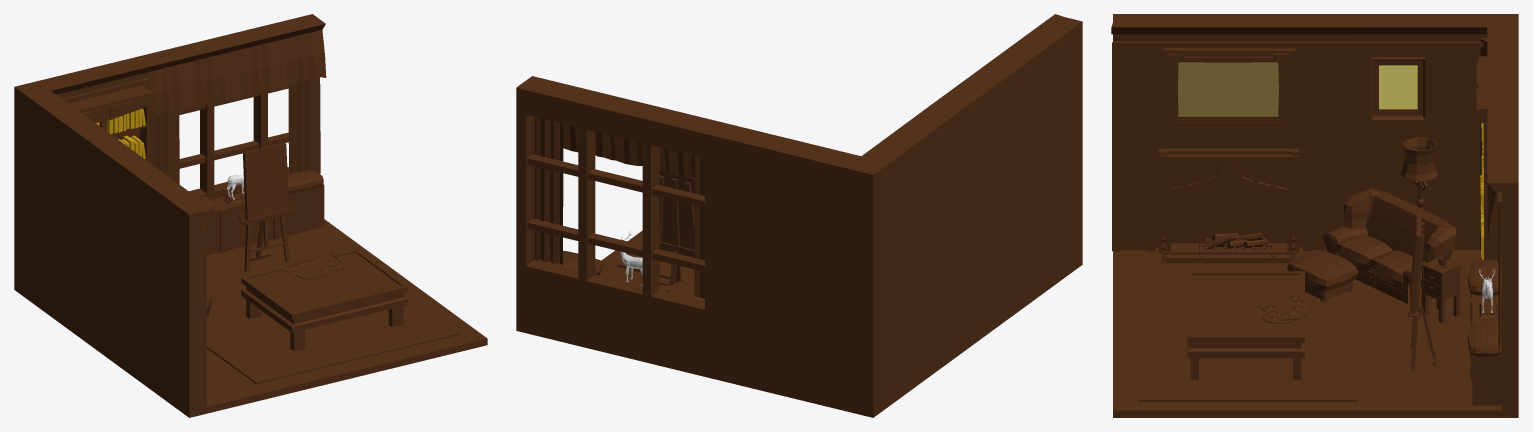
File: Drawing room.fbx
The picture shows the model from 3 angles, left to right: view 1: azimuth 30°, elevation 25°; view 2: azimuth 150°, elevation 25°; view 3: azimuth 270°, elevation 25°; orthographic projection. The views are drawn at different scales.
Parts seen in each view (by area): view 1: Cube.001, Cube.008, Cube.050, Cube.055, Cube.005, Cube.063, Cube.006, Cube.056, Cube.053, Cube.058, Cube.052, Deer; view 2: Cube.001, Cube.063, Cube.055, Cube.053, Cube.005, Cube.056; view 3: Cube.001, Cube.008, Cube.002, Cube.050, Cube.060, Cube, Cube.004, Cube.010, Cube.006, Mesita 2, Cylinder.008, Cube.007 (+8 smaller).
Part boxes in pixels (box(x1,y1,x2,y2)): Cube.001: box(14, 14, 487, 417); Cube.008: box(206, 292, 461, 384); Cube.050: box(241, 249, 408, 351); Cube.055: box(148, 30, 326, 116); Cube.005: box(243, 142, 288, 219); Cube.063: box(288, 78, 320, 173); Cube.006: box(68, 85, 152, 162); Cube.056: box(147, 83, 179, 184); Cube.053: box(239, 202, 293, 271); Cube.058: box(281, 256, 348, 279); Cube.052: box(287, 169, 323, 194); Deer: box(222, 174, 244, 204); Cube.001: box(516, 14, 1082, 417); Cube.063: box(534, 117, 563, 264); Cube.055: box(563, 124, 694, 177); Cube.053: box(659, 175, 694, 285); Cube.005: box(659, 171, 694, 249); Cube.056: box(694, 156, 704, 298); Cube.001: box(1111, 14, 1518, 417); Cube.008: box(1138, 284, 1357, 401); Cube.002: box(1159, 148, 1298, 256); Cube.050: box(1187, 271, 1304, 379); Cube.060: box(1323, 188, 1455, 303); Cube: box(1167, 53, 1289, 125); Cube.004: box(1371, 57, 1425, 119); Cube.010: box(1287, 251, 1358, 302); Cube.006: box(1476, 56, 1501, 261); Mesita 2: box(1422, 258, 1460, 322); Cylinder.008: box(1400, 137, 1437, 209); Cube.007: box(1161, 236, 1295, 263).
Size of the model in its own units: 597 by 388 by 609.
